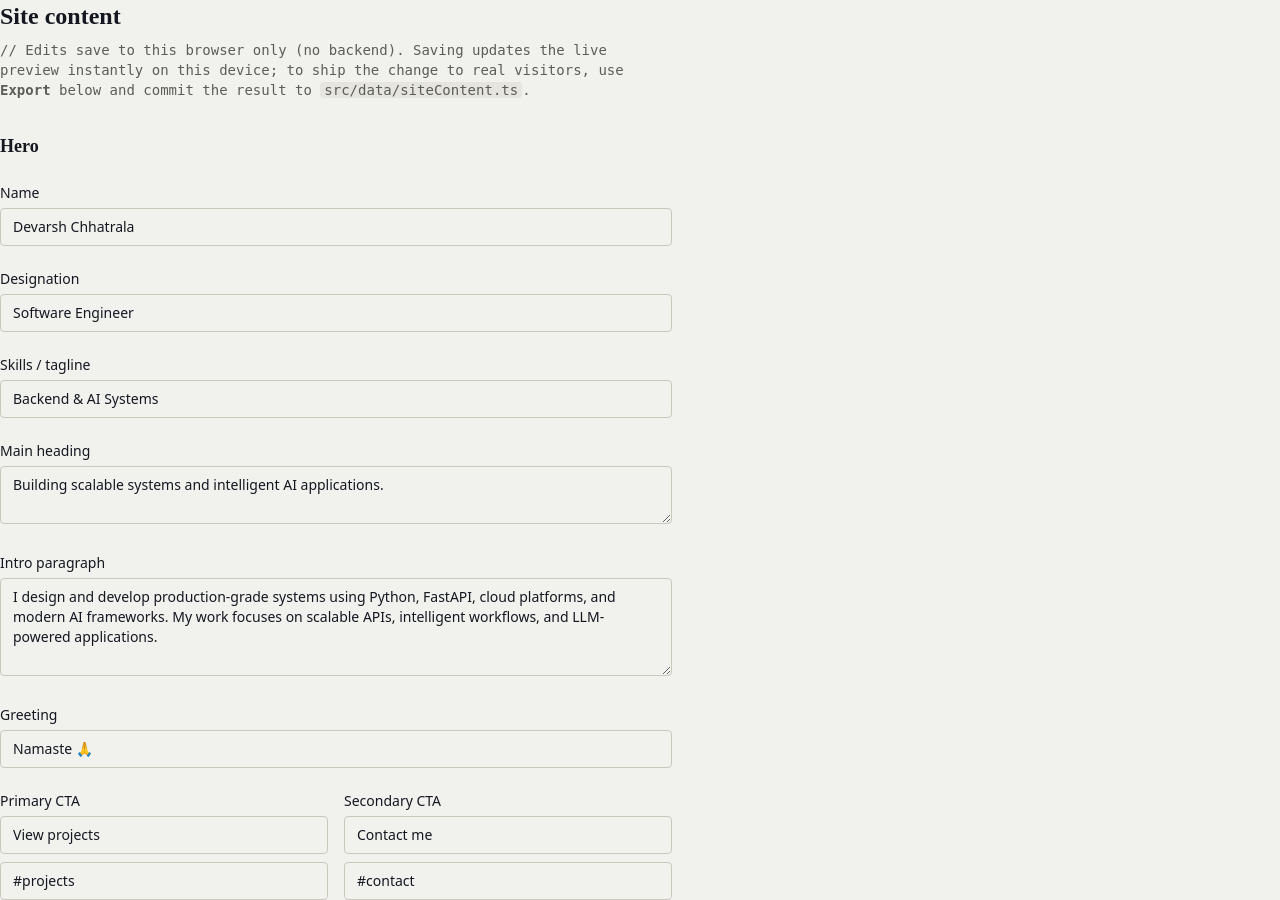
Test case: ContentEditorPage › resets to defaults after confirming
Replace the text in the field labelled "Name" with "Jane Doe": (336,227) [0,208,672,246]
(page scrolled)
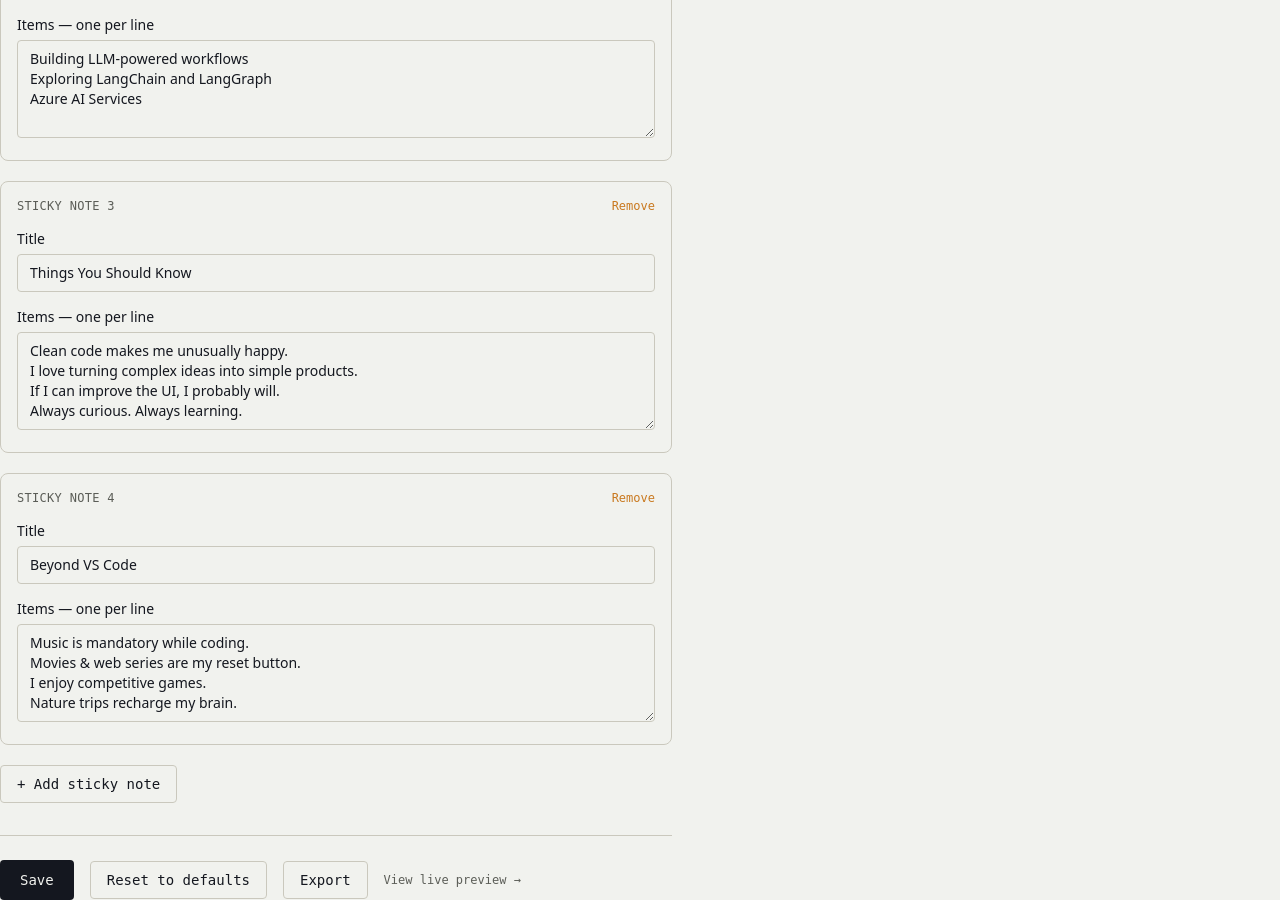
Click the button "Save": (37,880) [0,860,74,899]
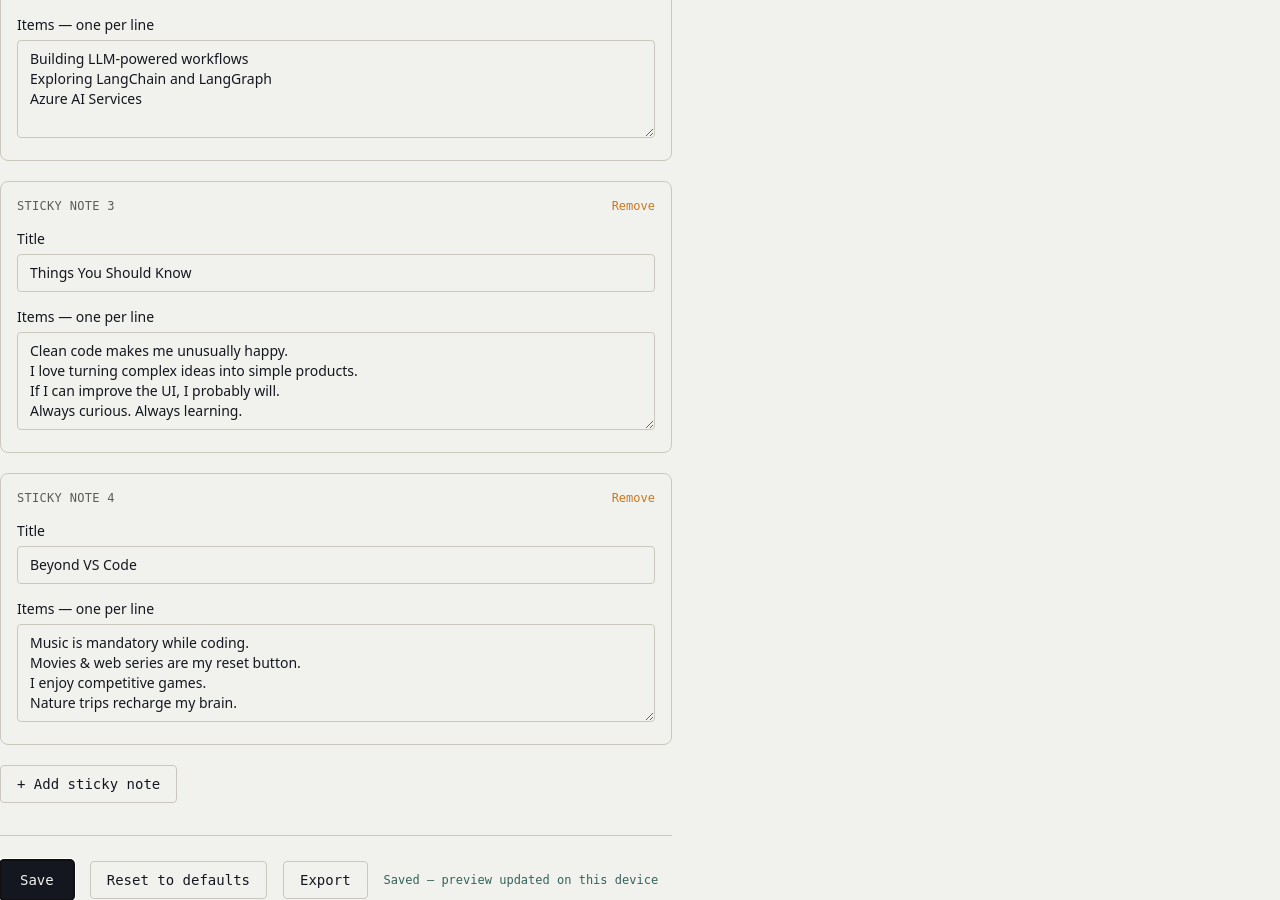
Click the button "Reset to defaults": (178,880) [90,861,267,899]
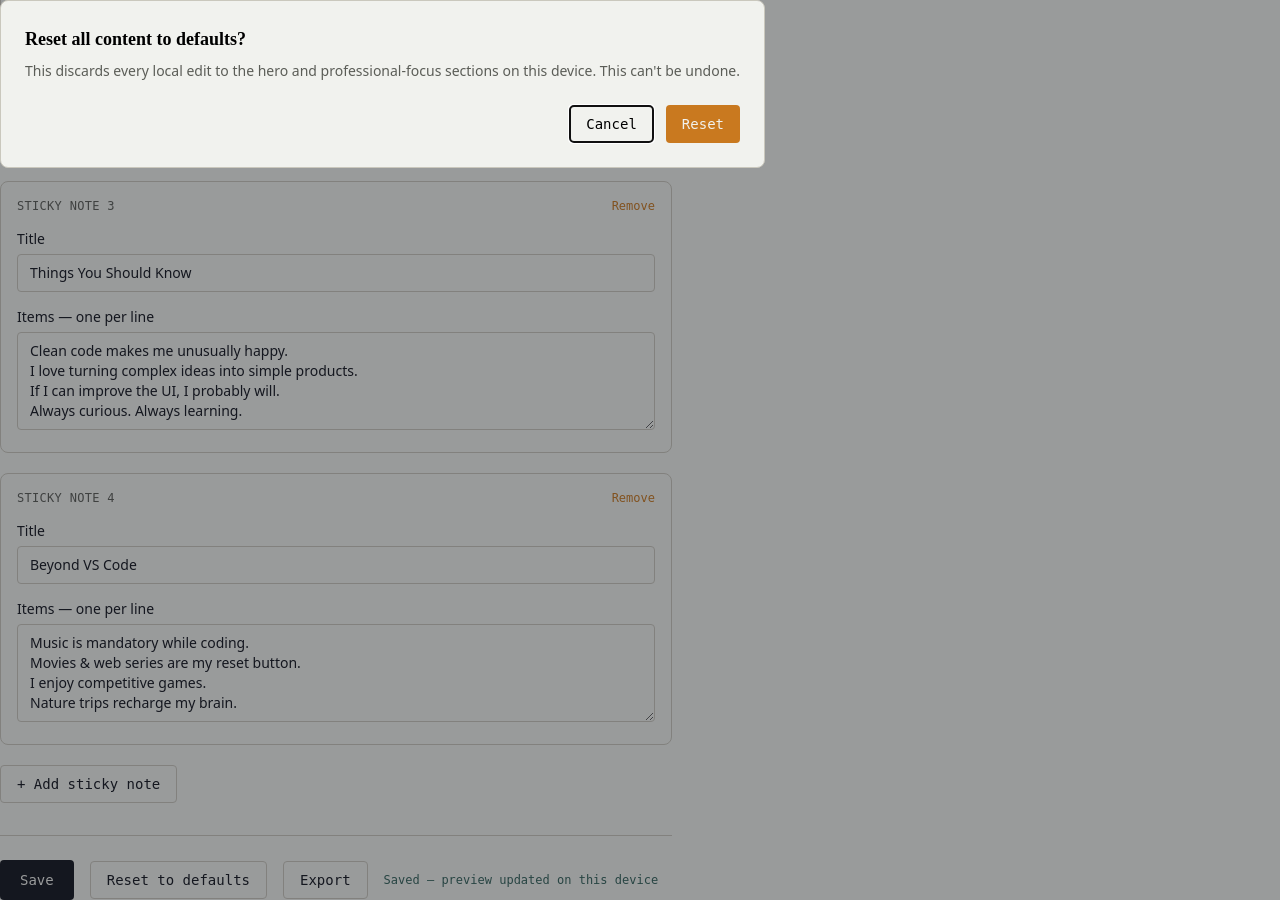
Click the button "Reset": (703,124) [666,105,740,143]
(page scrolled)
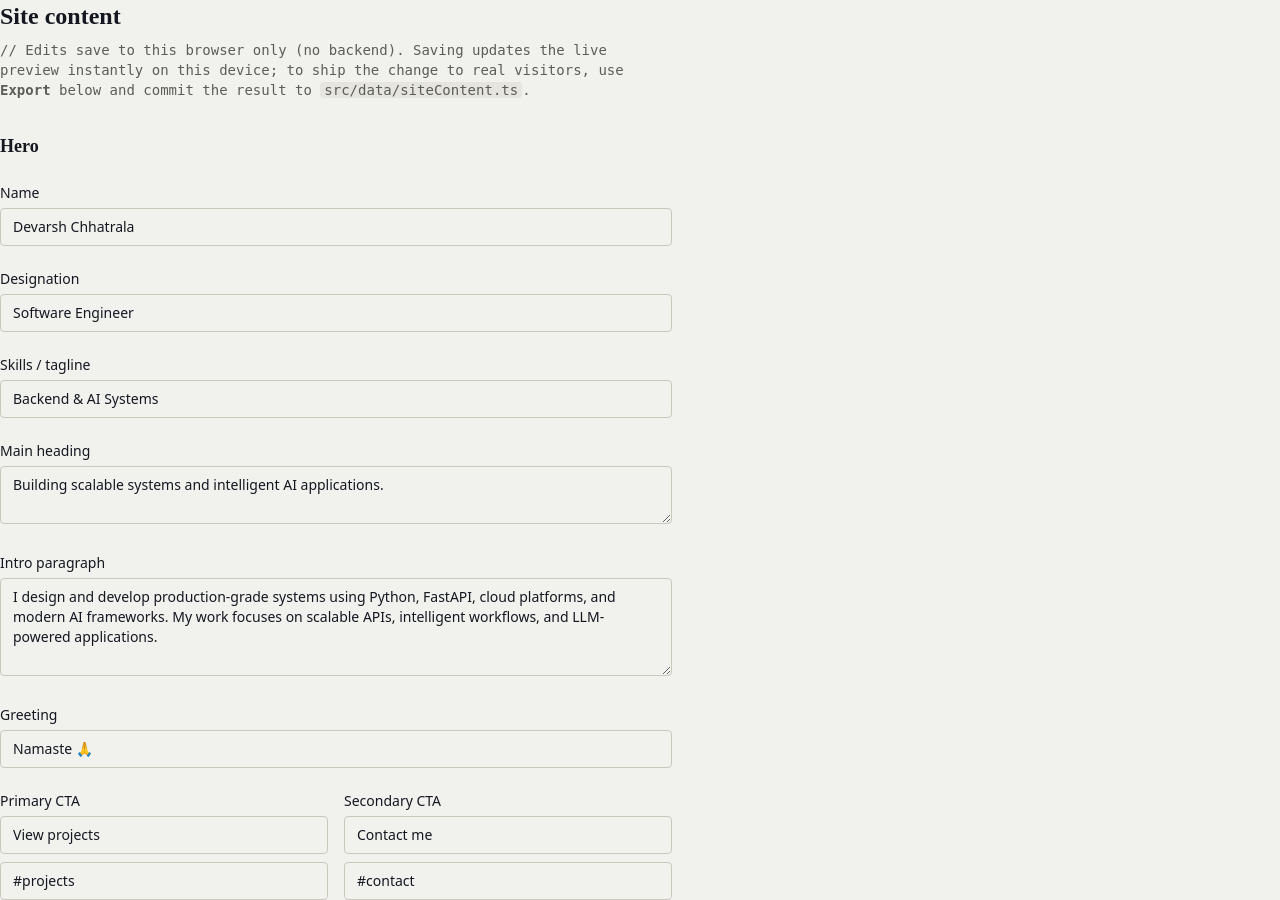
Now the field labelled "Name" holds "Devarsh Chhatrala", box [0,208,672,246]
